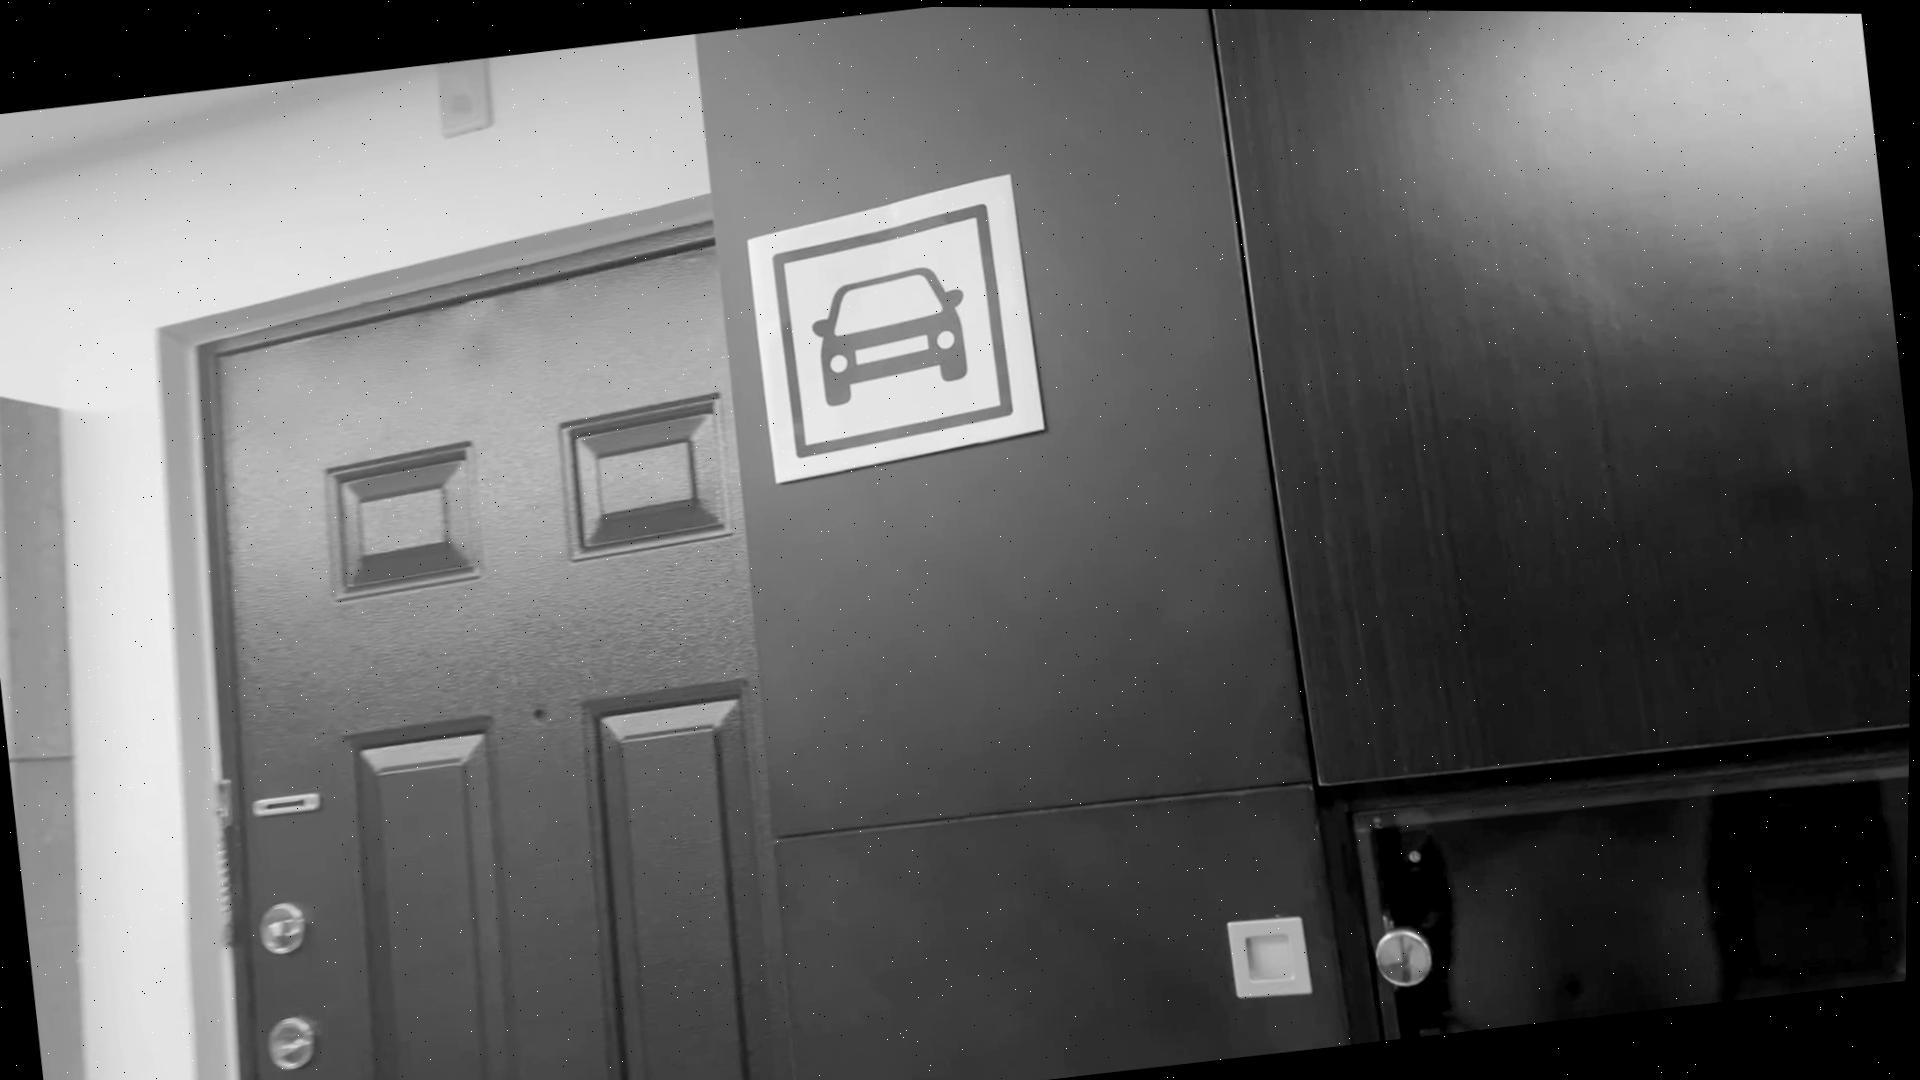car_img: (764, 191, 1025, 464)
